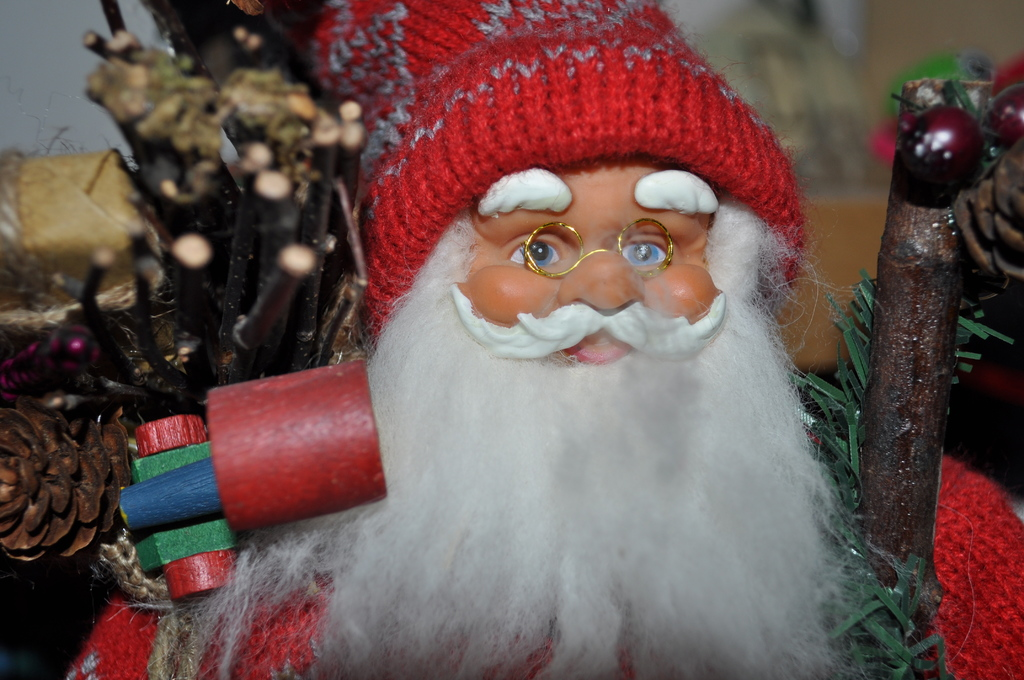Person: (67, 0, 1023, 680)
